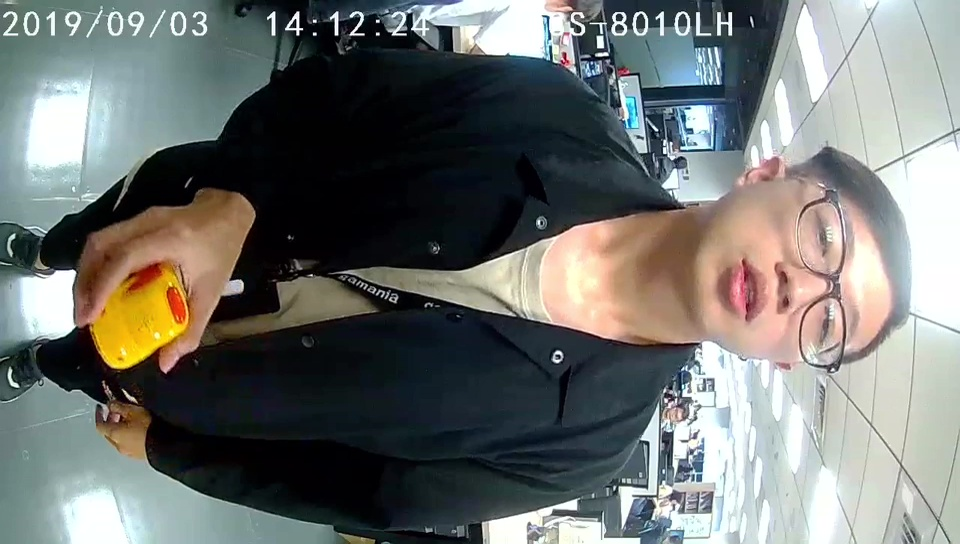car: (91, 265, 188, 368)
